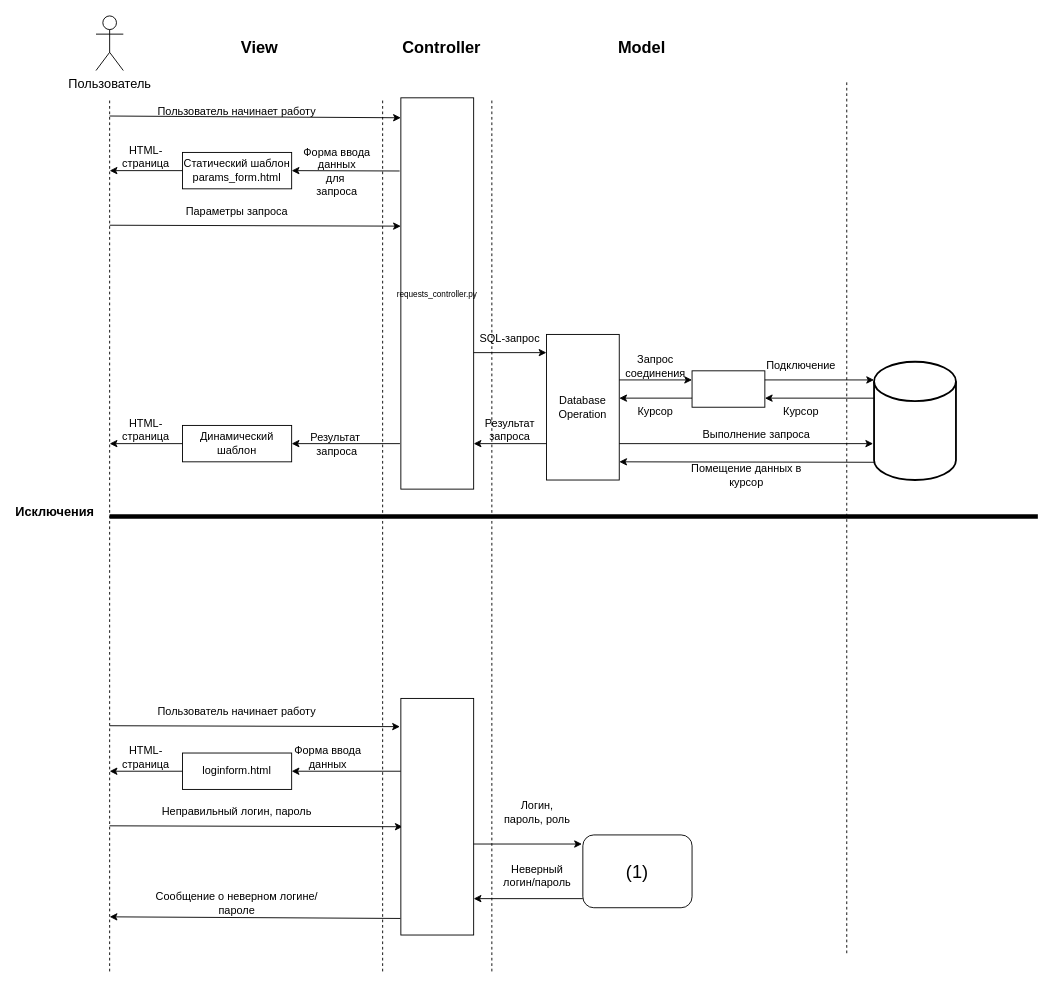
This 1057x988 diagram has some shape labels left out. Each missing label, with the box of its shape:
dbcm: (691, 370, 765, 407)
route: (400, 698, 474, 935)
СУБД: (873, 360, 956, 480)
